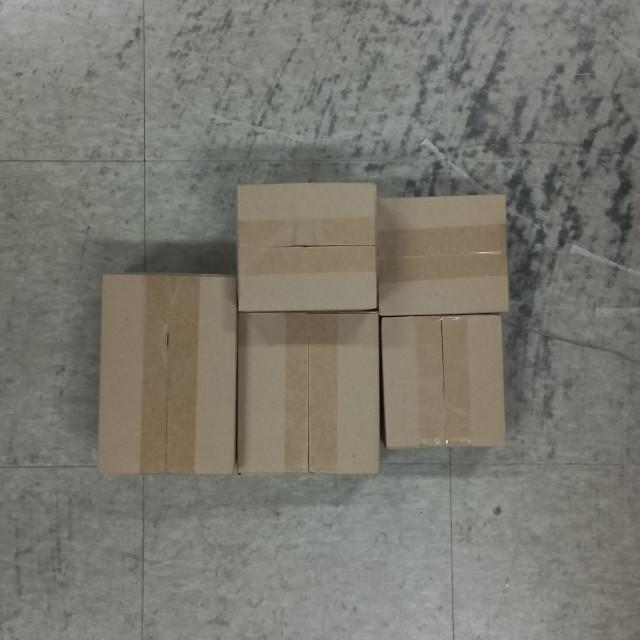box: (98, 275, 241, 480), (236, 310, 382, 478), (238, 180, 381, 316), (379, 313, 506, 453), (374, 192, 508, 319)
